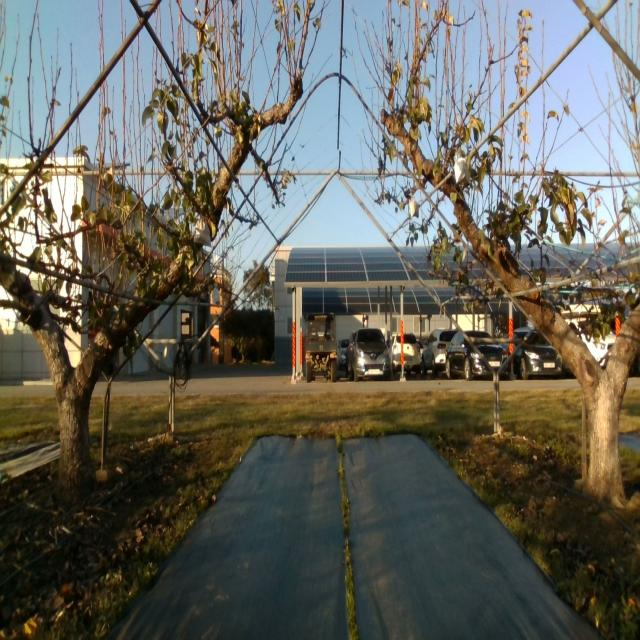pearbags: (194, 218, 212, 248), (454, 155, 466, 183)
